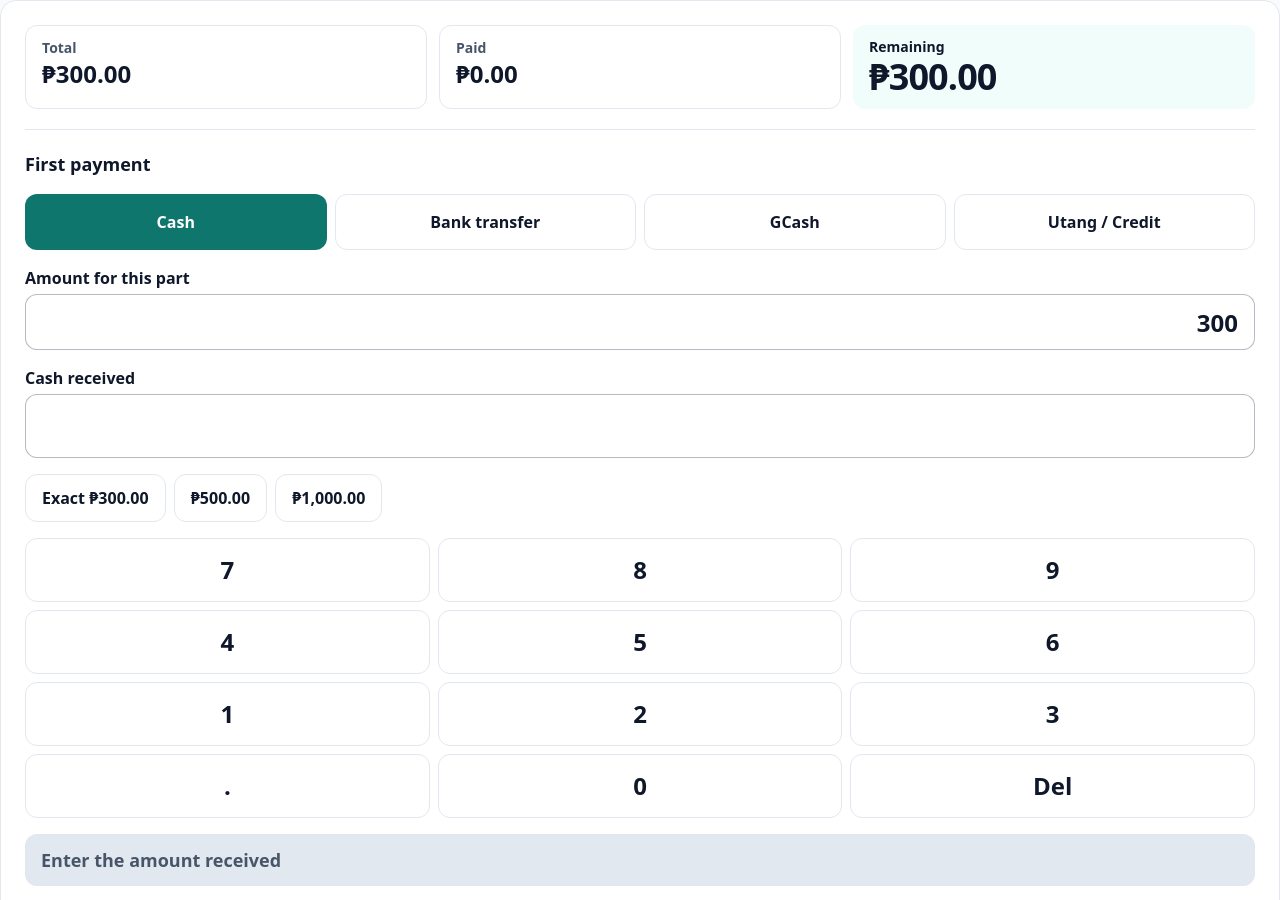
SplitTenderPanel › will not take a non-cash part bigger than what is left
The width and height of the screenshot is (1280, 900).
Click the radio button labelled "GCash". click: (795, 222)
box: [644, 194, 946, 250]
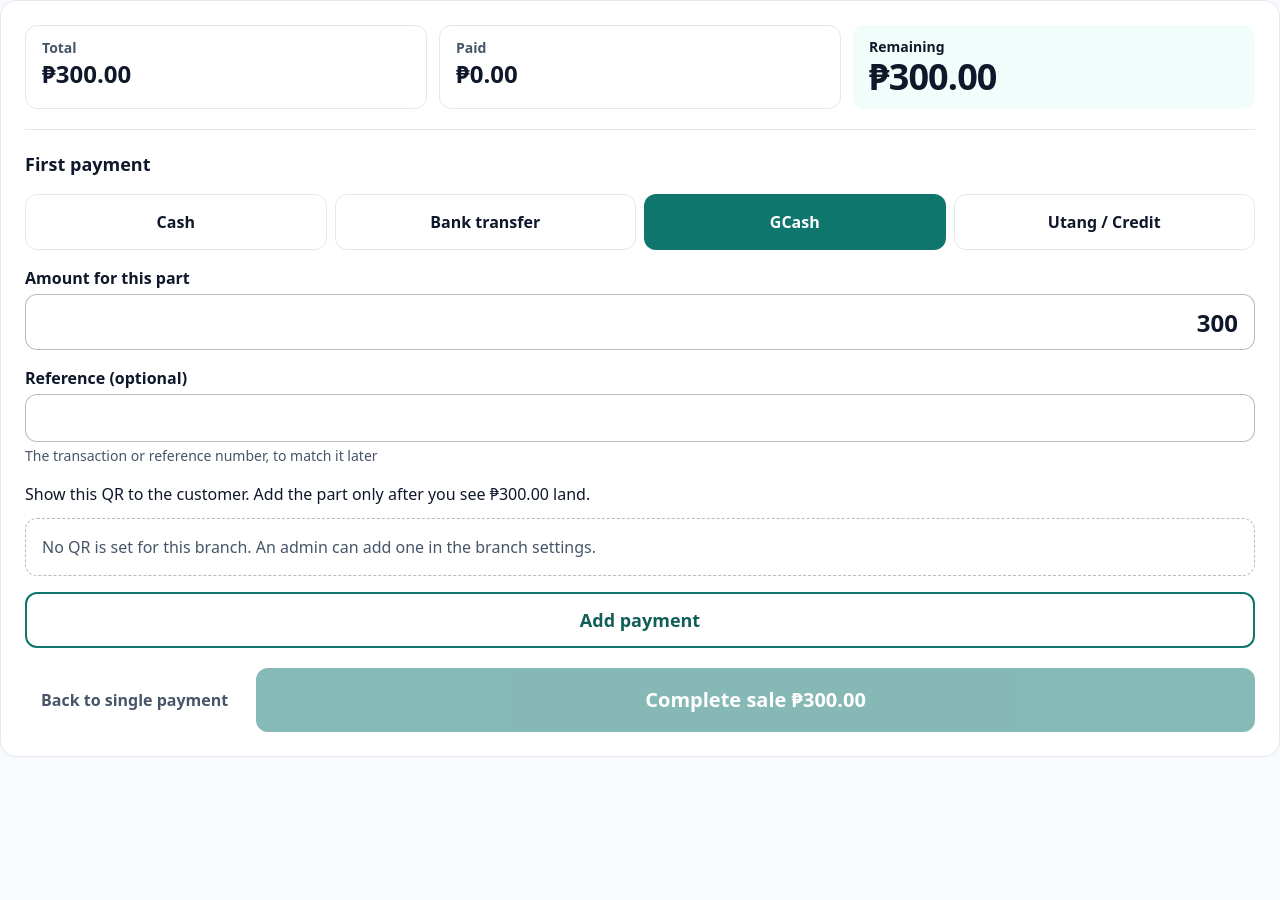
Replace the text in the field labelled "Amount for this part" with "400". click: (640, 322)
box: [25, 294, 1255, 350]
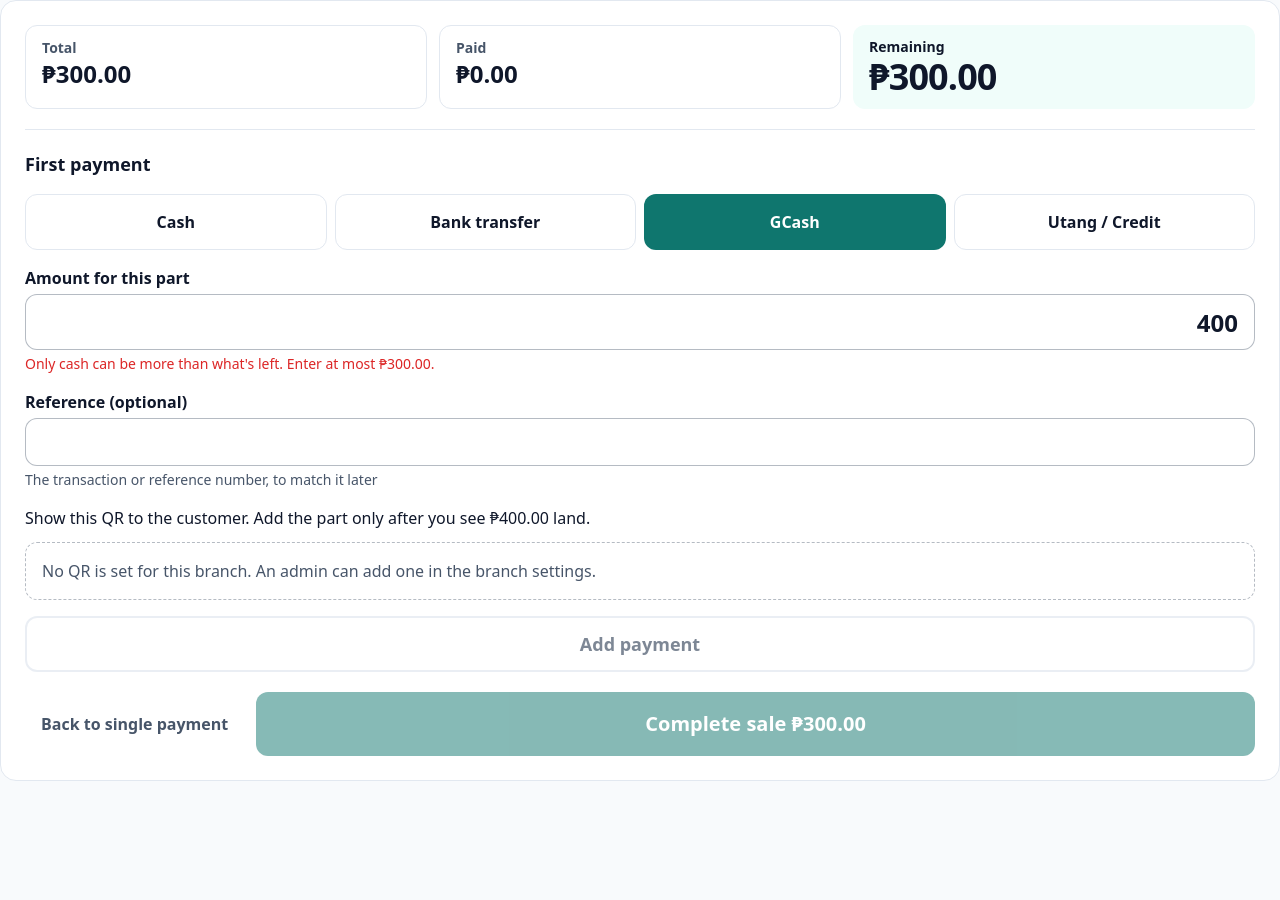
Result: the text "Only cash can be more than what's left. Enter at most ₱300.00." is shown at [25, 354, 435, 373]
Result: the button "Add payment" is disabled at [25, 616, 1255, 672]
